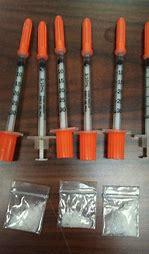Syringe: (26, 20, 55, 166), (75, 12, 101, 172), (106, 12, 130, 166), (8, 14, 32, 166), (50, 11, 74, 162)
